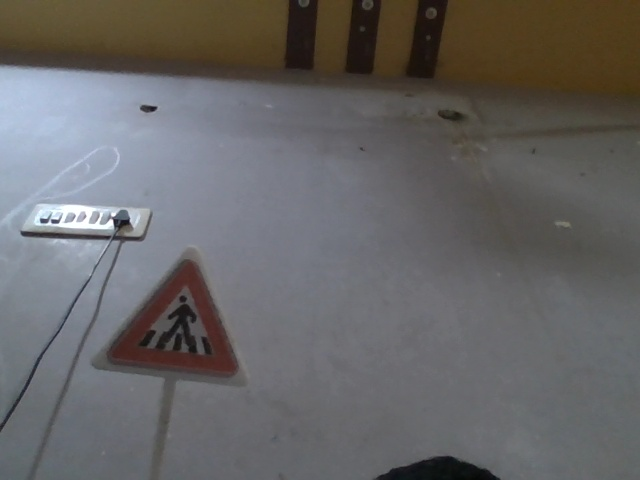crossing: (101, 254, 244, 387)
